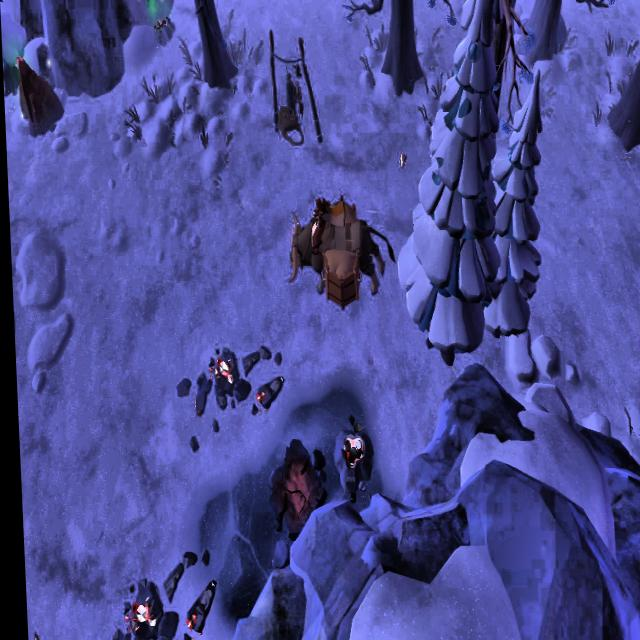rock_t5: (12, 57, 68, 142)
